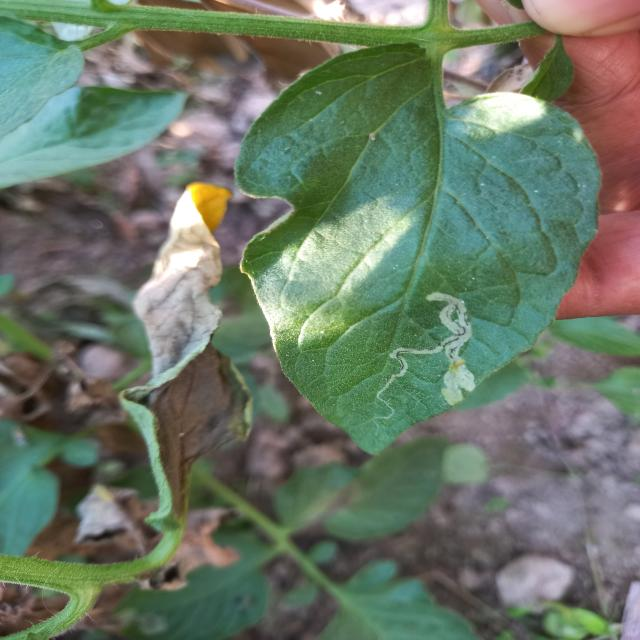Tuta absoluta: (376, 287, 483, 407)
